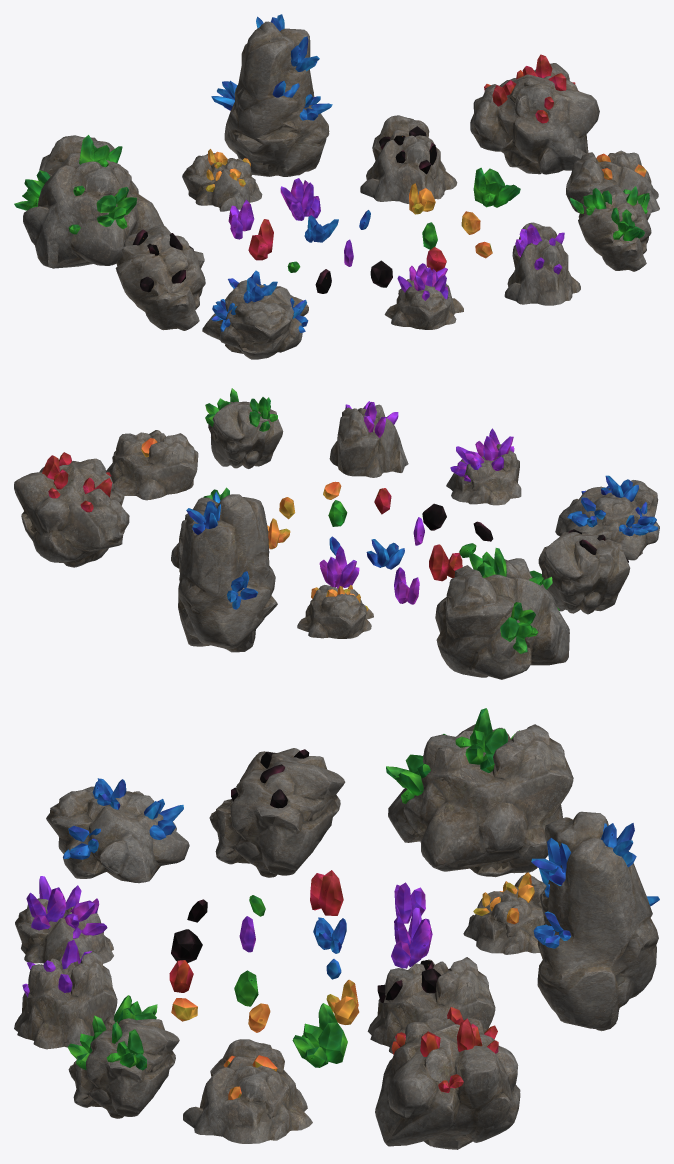
The model's file is Crystal_Ores_A1.fbx.
3 views of the same model, one above another, from view 1: azimuth 30°, elevation 25°; view 2: azimuth 150°, elevation 25°; view 3: azimuth 270°, elevation 25° (orthographic). The views are drawn at different scales.
Parts seen in each view (by area): view 1: Sapphire_Rock_A2, Emerald_Rock_A1, Ruby_Rock_A1, Emerald_Rock_A1.001, Obsidian_Rock_A2, Sapphire_Rock_A2.001, Ruby_Rock_A1.001, Sapphire_Rock_A1, Obsidian_Rock_A1, Obsidian_Rock_A2.001, Amethyst_Rock_A1, Emerald_Rock_A2 (+26 smaller); view 2: Sapphire_Rock_A2, Emerald_Rock_A1, Ruby_Rock_A1, Emerald_Rock_A1.001, Obsidian_Rock_A2, Sapphire_Rock_A2.001, Ruby_Rock_A1.001, Topaz_Rock_A2, Amethyst_Rock_A1, Emerald_Rock_A2, Sapphire_Rock_A1, Obsidian_Rock_A2.001 (+19 smaller); view 3: Sapphire_Rock_A2, Emerald_Rock_A1, Ruby_Rock_A1, Emerald_Rock_A1.001, Sapphire_Rock_A2.001, Obsidian_Rock_A2, Ruby_Rock_A1.001, Sapphire_Rock_A1, Topaz_Rock_A2, Obsidian_Rock_A2.001, Emerald_Rock_A2, Amethyst_Rock_A1 (+28 smaller).
Boxes of the visible parts, x1,y1,x2,y2 form: Sapphire_Rock_A2: [224, 21, 329, 176]; Emerald_Rock_A1: [23, 135, 161, 267]; Ruby_Rock_A1: [470, 63, 599, 174]; Emerald_Rock_A1.001: [24, 135, 163, 268]; Obsidian_Rock_A2: [116, 224, 205, 330]; Sapphire_Rock_A2.001: [224, 21, 329, 176]; Ruby_Rock_A1.001: [470, 63, 599, 174]; Sapphire_Rock_A1: [202, 280, 308, 359]; Obsidian_Rock_A1: [360, 115, 457, 203]; Obsidian_Rock_A2.001: [115, 224, 205, 330]; Amethyst_Rock_A1: [504, 222, 580, 305]; Emerald_Rock_A2: [578, 185, 651, 271]; Sapphire_Rock_A2: [178, 494, 277, 652]; Emerald_Rock_A1: [435, 558, 569, 679]; Ruby_Rock_A1: [14, 458, 129, 567]; Emerald_Rock_A1.001: [436, 559, 569, 679]; Obsidian_Rock_A2: [538, 532, 629, 614]; Sapphire_Rock_A2.001: [178, 494, 277, 652]; Ruby_Rock_A1.001: [14, 458, 129, 567]; Topaz_Rock_A2: [106, 430, 198, 499]; Amethyst_Rock_A1: [330, 404, 408, 477]; Emerald_Rock_A2: [208, 401, 282, 468]; Sapphire_Rock_A1: [555, 480, 659, 560]; Obsidian_Rock_A2.001: [538, 532, 630, 614]; Sapphire_Rock_A2: [537, 811, 658, 1030]; Emerald_Rock_A1: [388, 724, 573, 876]; Ruby_Rock_A1: [375, 1017, 520, 1149]; Emerald_Rock_A1.001: [388, 724, 573, 877]; Sapphire_Rock_A2.001: [537, 812, 658, 1031]; Obsidian_Rock_A2: [210, 748, 344, 877]; Ruby_Rock_A1.001: [375, 1017, 520, 1149]; Sapphire_Rock_A1: [46, 787, 189, 882]; Topaz_Rock_A2: [183, 1039, 312, 1143]; Obsidian_Rock_A2.001: [209, 749, 345, 877]; Emerald_Rock_A2: [69, 1015, 179, 1118]; Amethyst_Rock_A1: [14, 951, 117, 1049].
Bounding box in the file's own units: 1131 × 317 × 902.
